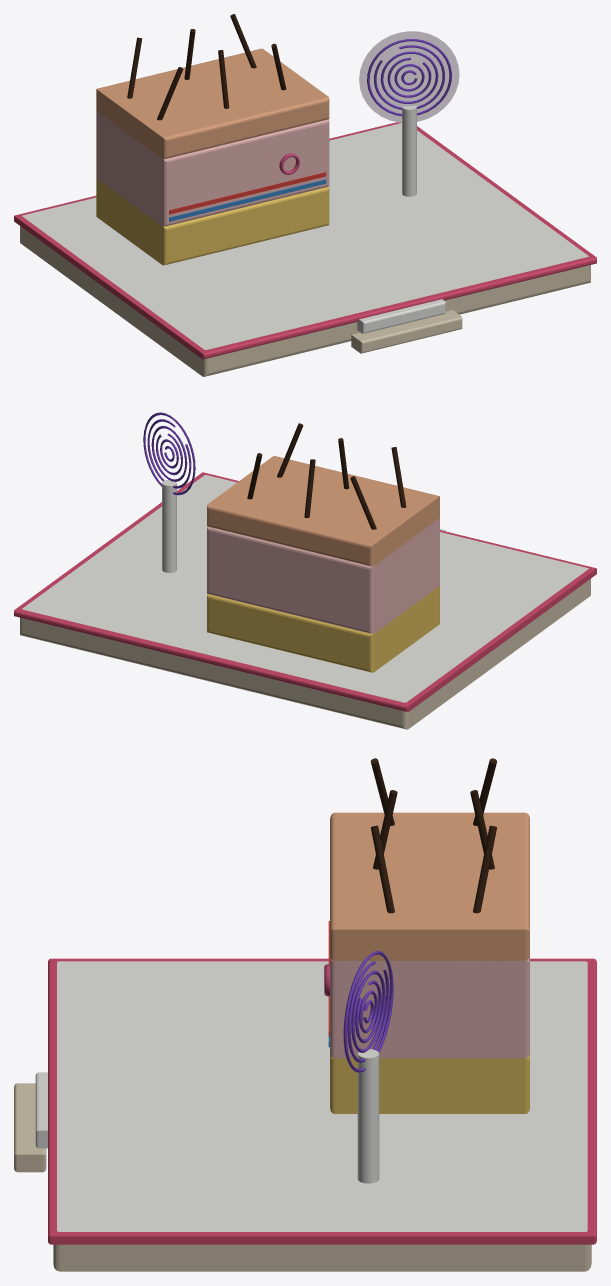
File: skinPavilion.glb
3 views of the same model, one above another, from view 1: azimuth 30°, elevation 25°; view 2: azimuth 150°, elevation 25°; view 3: azimuth 270°, elevation 25° (orthographic). The views are drawn at different scales.
Parts seen in each view (by area): view 1: part_000, part_008, part_007, part_006, part_005; view 2: part_000, part_007; view 3: part_000, part_007, part_006, part_005.
Part boxes in pixels (x1=…): part_000: x1=14, y1=14, x2=596, y2=376; part_008: x1=359, y1=31, x2=459, y2=122; part_007: x1=367, y1=39, x2=451, y2=116; part_006: x1=374, y1=45, x2=444, y2=109; part_005: x1=380, y1=51, x2=438, y2=103; part_000: x1=14, y1=423, x2=596, y2=729; part_007: x1=143, y1=412, x2=195, y2=495; part_000: x1=14, y1=758, x2=596, y2=1271; part_007: x1=343, y1=951, x2=393, y2=1072; part_006: x1=347, y1=961, x2=389, y2=1062; part_005: x1=351, y1=970, x2=385, y2=1052.
Size of the model in its own units: 8.54 by 4.35 by 7.58.
